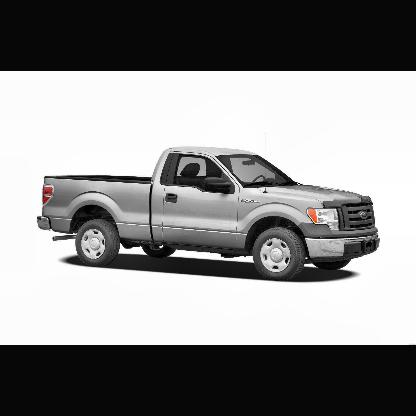Ford F-150 Regular Cab 2012: (36, 146, 383, 283)
